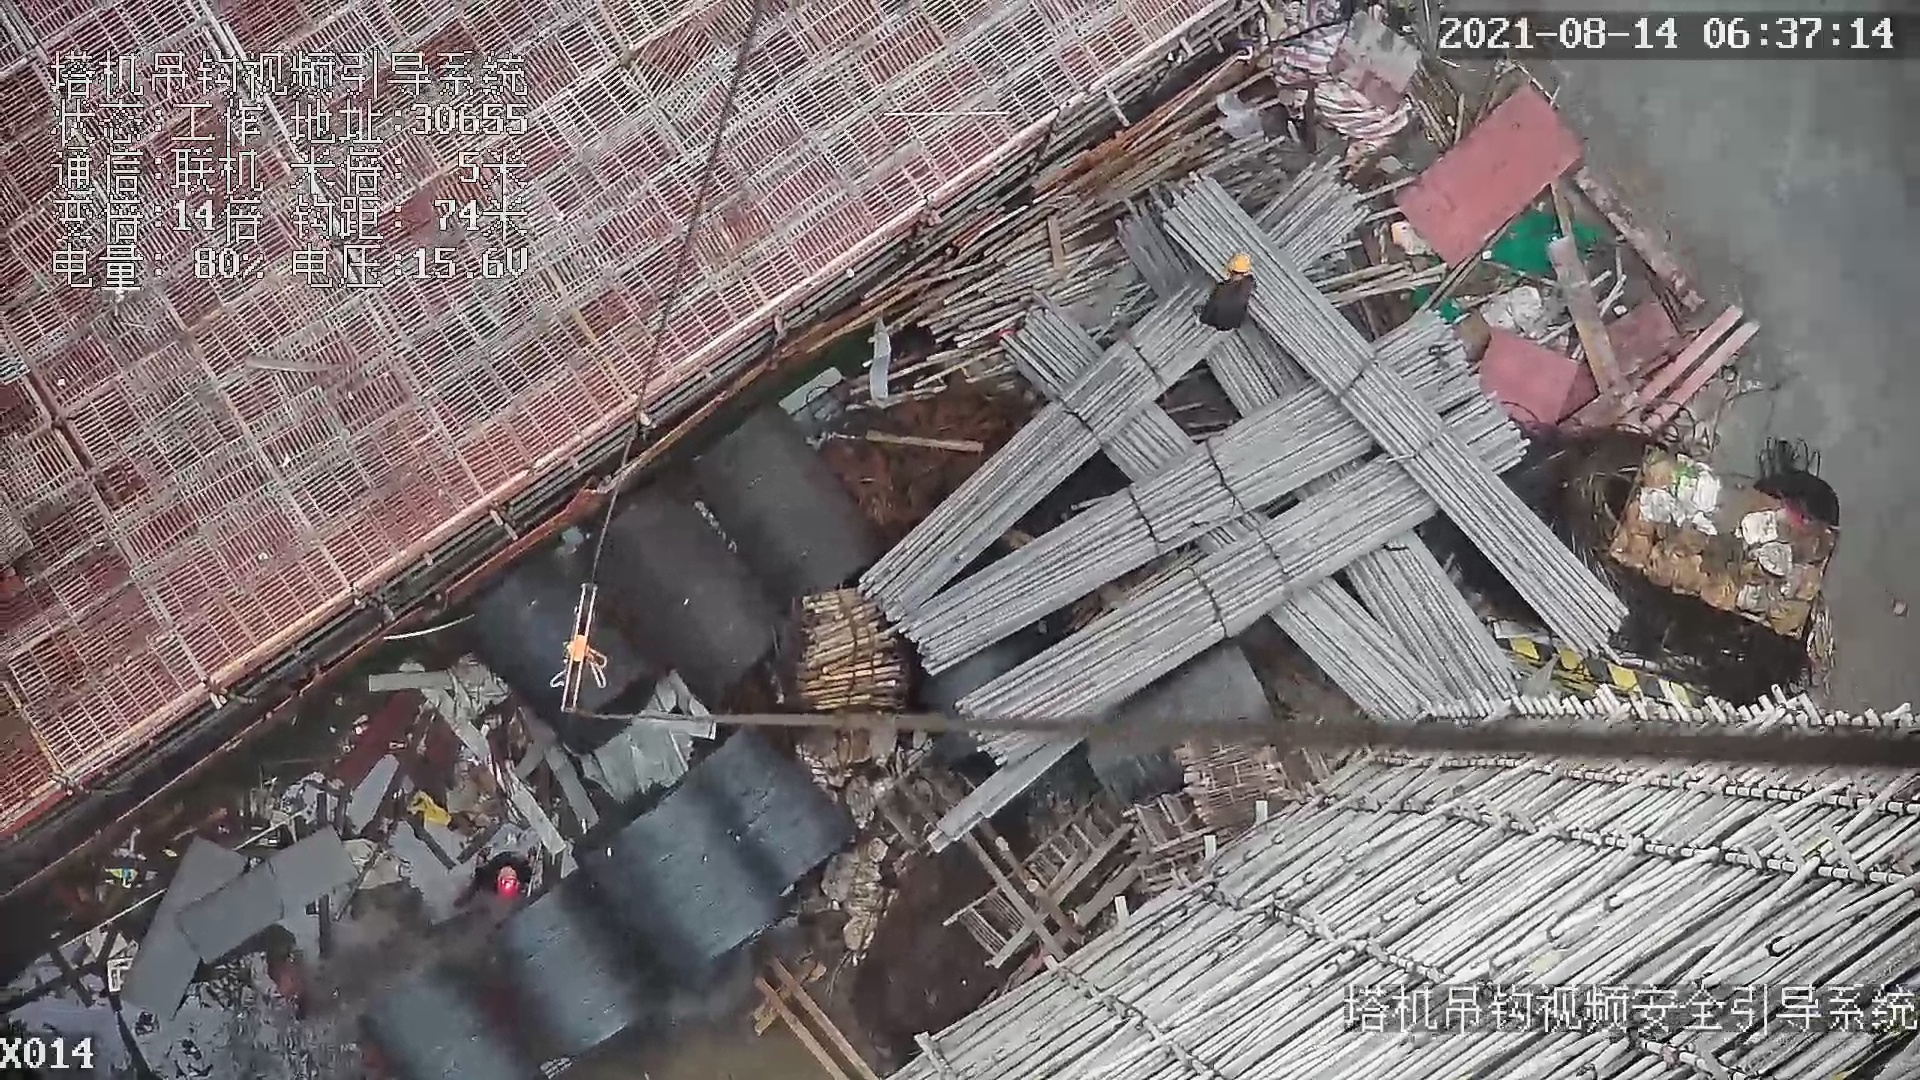helmet: (1224, 249, 1252, 275), (493, 876, 524, 898)
hook: (545, 574, 605, 719)
person: (1195, 247, 1260, 335), (472, 850, 554, 906)
scaffold: (913, 163, 1619, 727), (788, 589, 915, 736)
